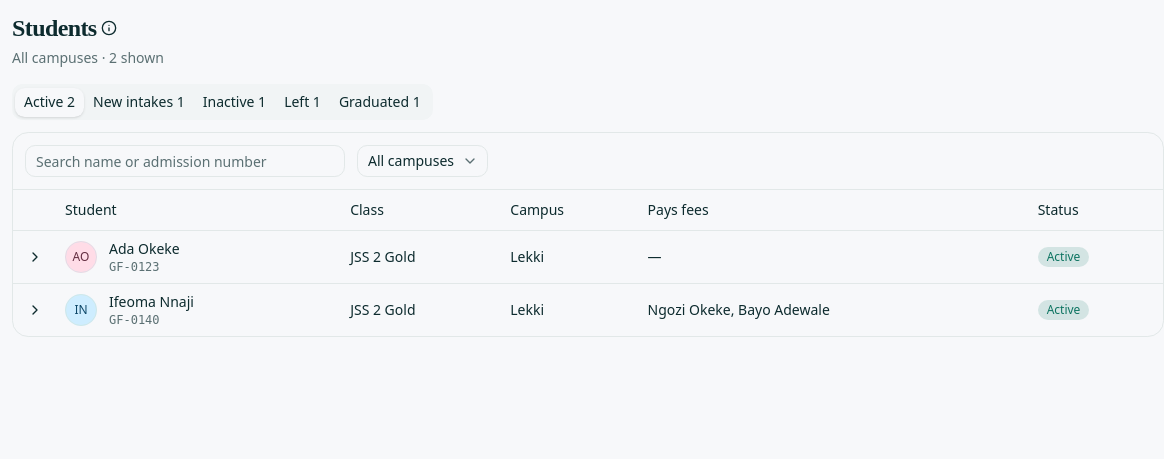
StudentsPage permissions › opens the guardians row with the heading, the lines and no Add guardian without guardian:link
Step 1. Click the button named "Show guardians of Ada Okeke" → click(35, 256), box [21,242,49,270]
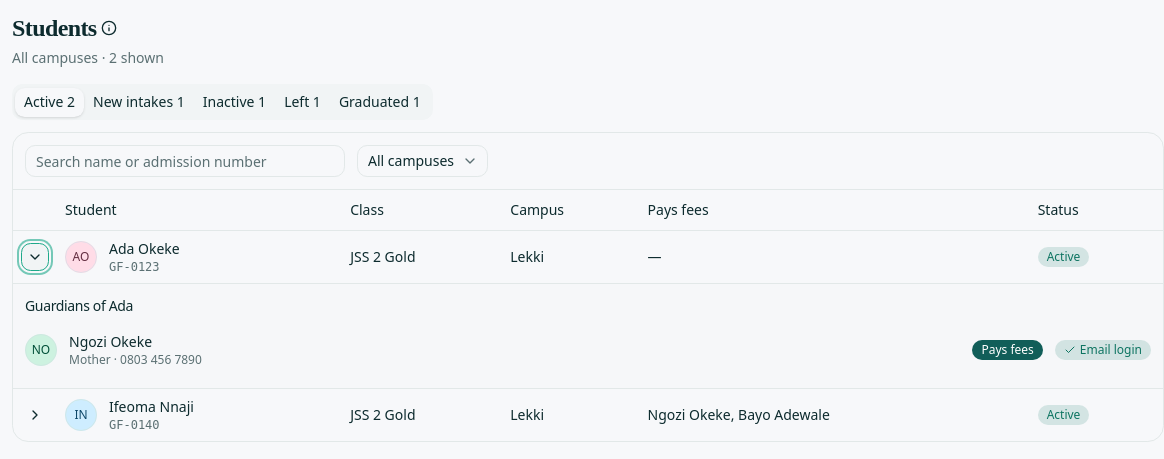
Result: the heading "Guardians of Ada" is shown at [25,296,133,316]
Result: the button "Ngozi Okeke" is shown at [69,332,152,352]
Result: the text "Mother · 0803 456 7890" is shown at [69,350,202,368]
